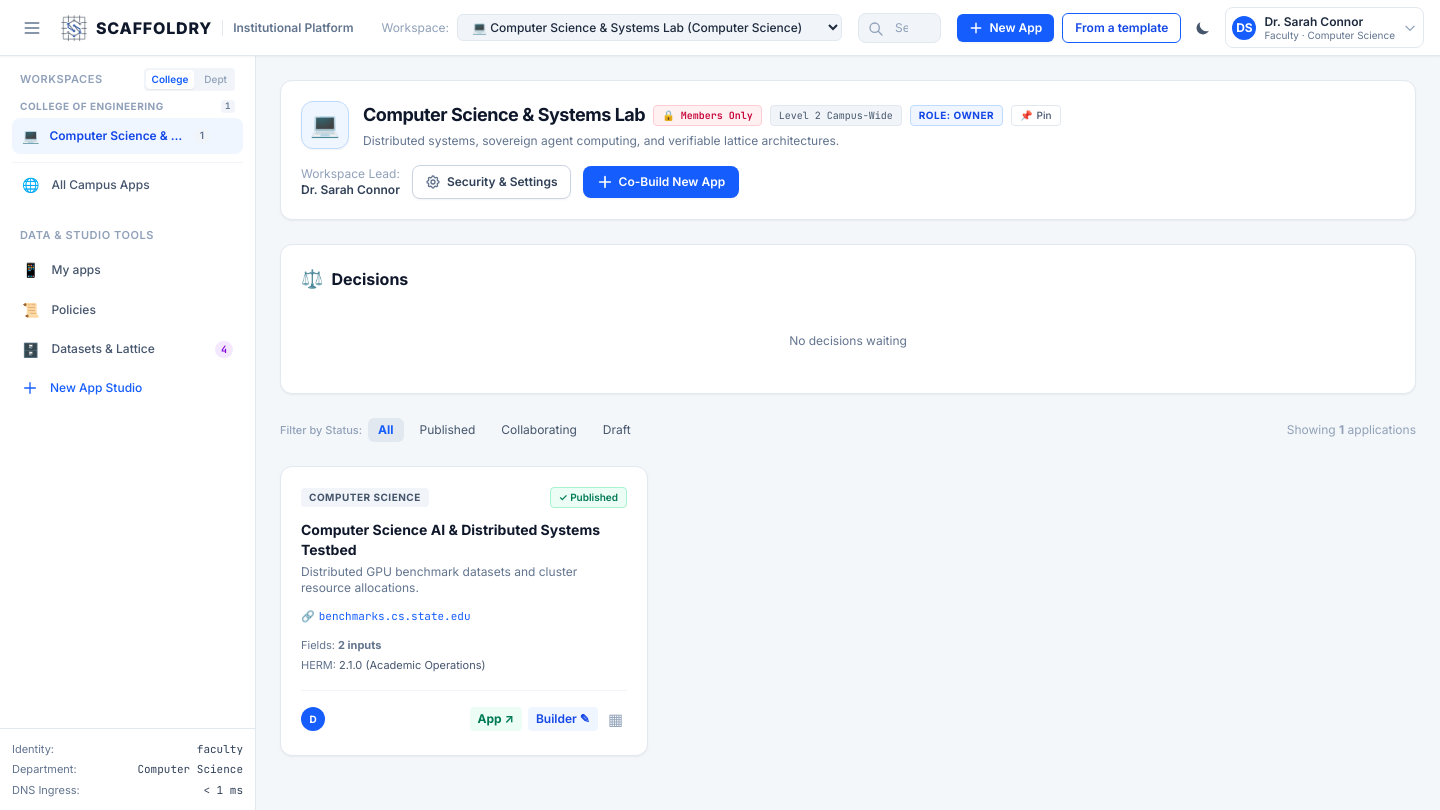
Test: My apps in the desk › opens from the rail and lists the apps from the server
This screenshot has width=1440, height=810.
Click the button "📱 My apps": (128, 270) x1=12 y1=252 x2=243 y2=288
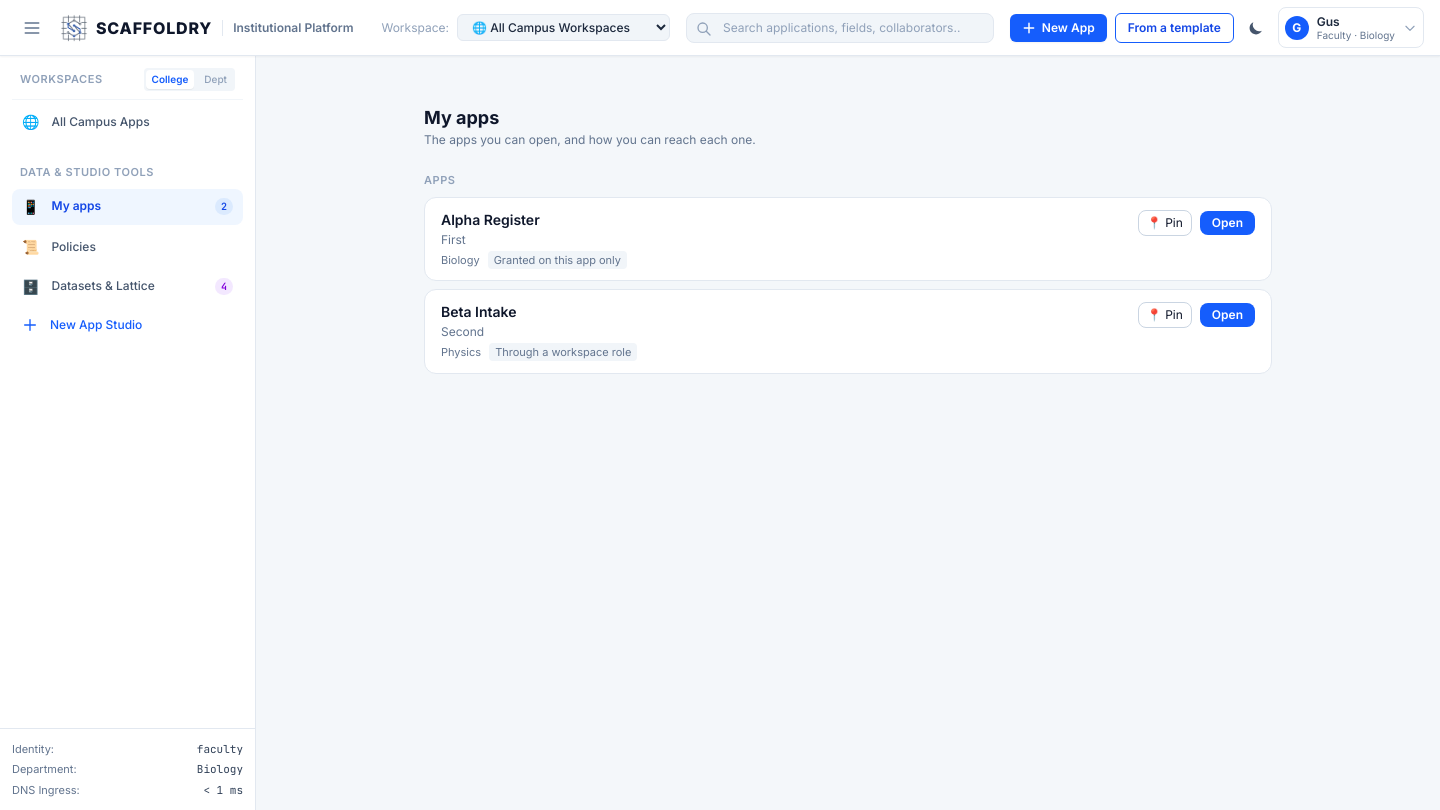
Now the element with test id "my-apps-view" is shown, box x1=400 y1=80 x2=1296 y2=398
Now the text "Alpha Register" is shown, box x1=441 y1=210 x2=540 y2=228
Now the text "Beta Intake" is shown, box x1=441 y1=303 x2=516 y2=320
